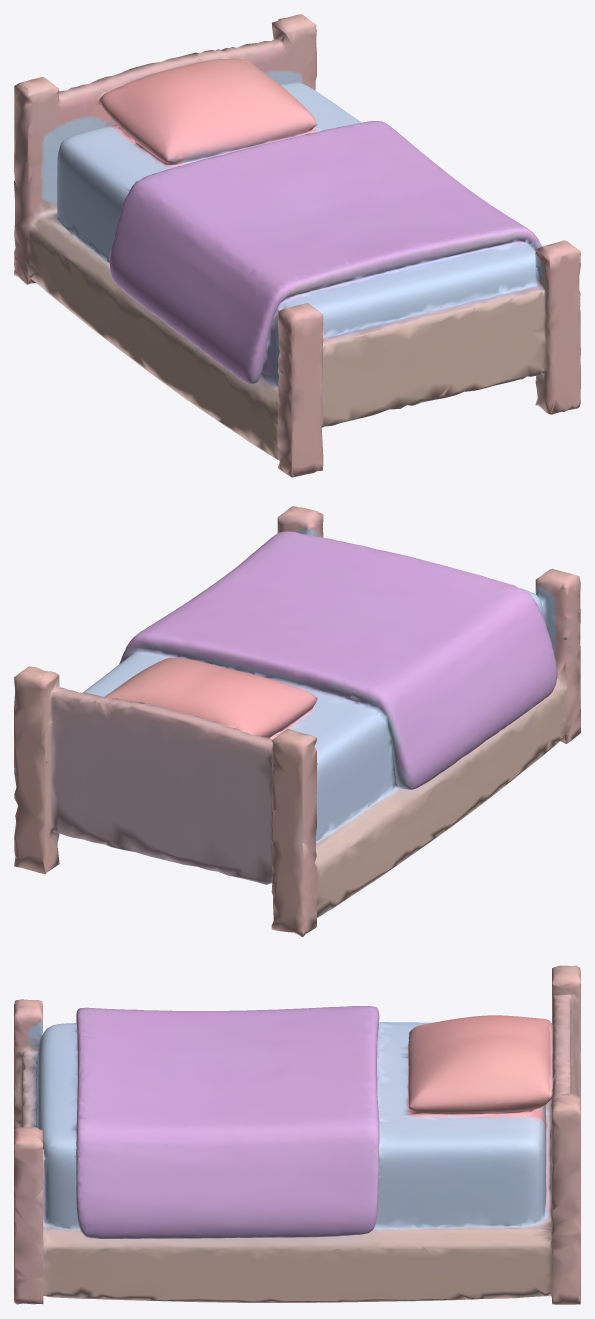
File: dorm_bed.glb
3 views of the same model, one above another, from view 1: azimuth 30°, elevation 25°; view 2: azimuth 150°, elevation 25°; view 3: azimuth 270°, elevation 25° (orthographic).
Parts seen in each view (by area): view 1: model; view 2: model; view 3: model.
Part boxes in pixels (bbox=[...]): model: bbox=[14, 14, 580, 477]; model: bbox=[14, 506, 580, 936]; model: bbox=[14, 965, 580, 1304].
Size of the model in its own units: 1.22 by 0.736 by 1.9.
Materials: 1 (1 with a texture image).
